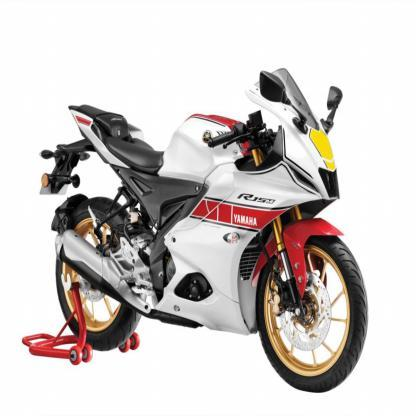Motorcycle: (24, 42, 373, 392)
